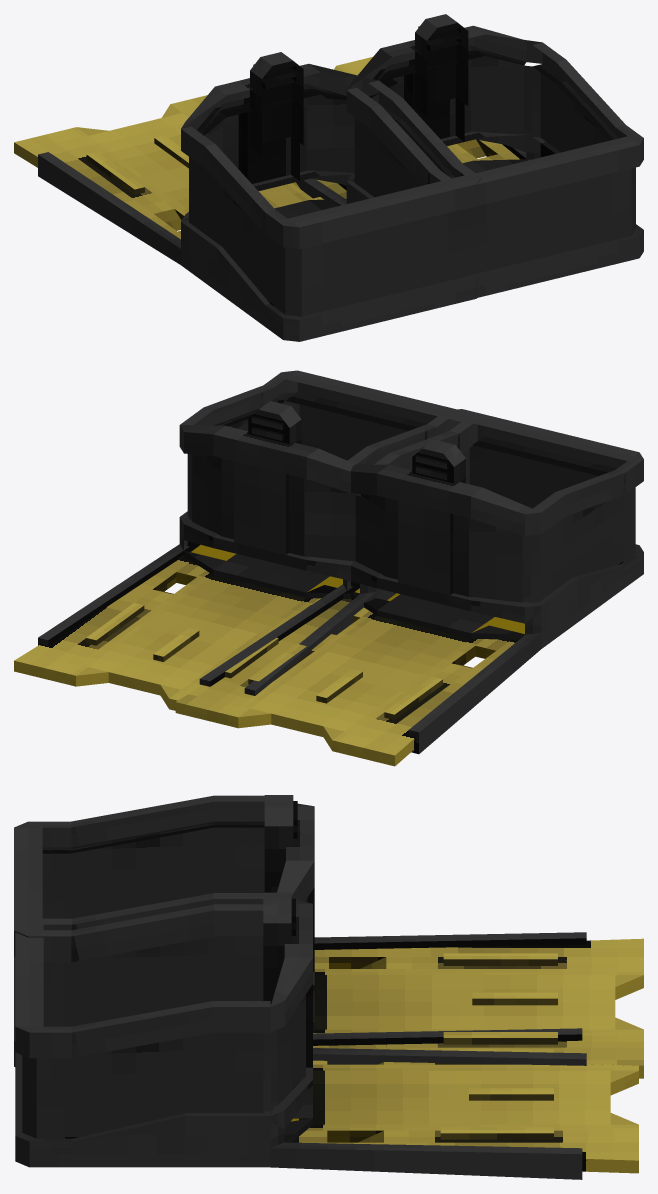
The picture shows the model from 3 angles, top to bottom: view 1: azimuth 30°, elevation 25°; view 2: azimuth 150°, elevation 25°; view 3: azimuth 270°, elevation 25°; orthographic projection. The views are drawn at different scales.
Parts seen in each view (by area): view 1: left_leg, right_leg; view 2: left_leg, right_leg; view 3: right_leg, left_leg.
Boxes of the visible parts, x1,y1,x2,y2 form: left_leg: (14,52,481,341); right_leg: (296,14,643,297); left_leg: (175,409,643,766); right_leg: (14,370,477,710); right_leg: (15,892,638,1179); left_leg: (14,795,643,1078).
Bounding box in the file's own units: 0.5843 × 0.271 × 0.7013.
Materials: 1 (1 with a texture image).
